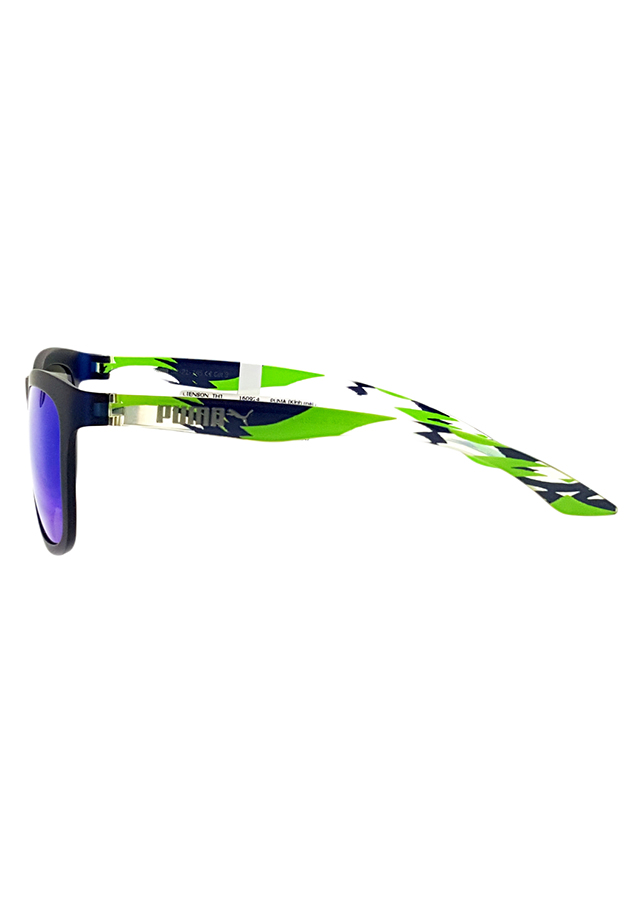Puma: (149, 394, 262, 439)
